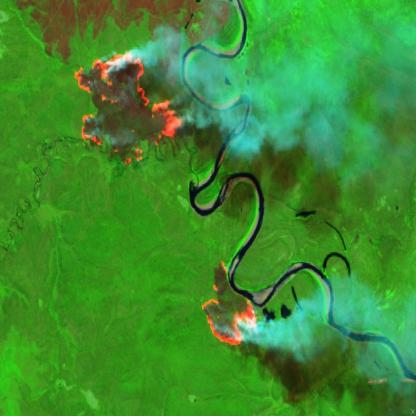fire: (74, 49, 183, 170), (198, 256, 259, 352)
